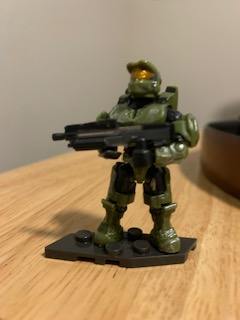chief: (91, 61, 200, 254)
rifle: (50, 118, 173, 158)
spartan: (89, 59, 198, 252)
